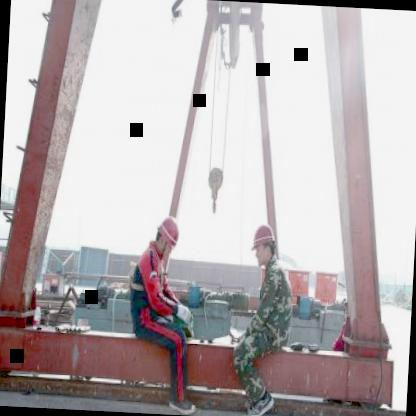helmet: (247, 221, 277, 272), (153, 214, 181, 260)
